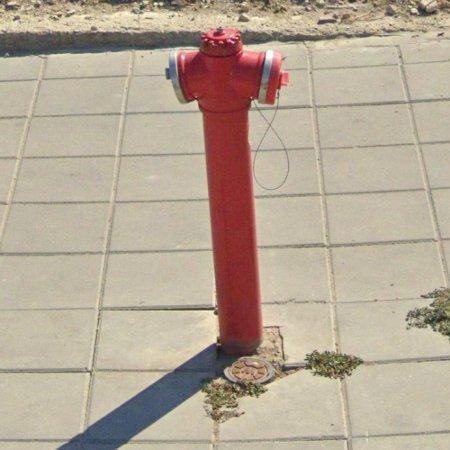a fire hydrant: (168, 28, 289, 356)
